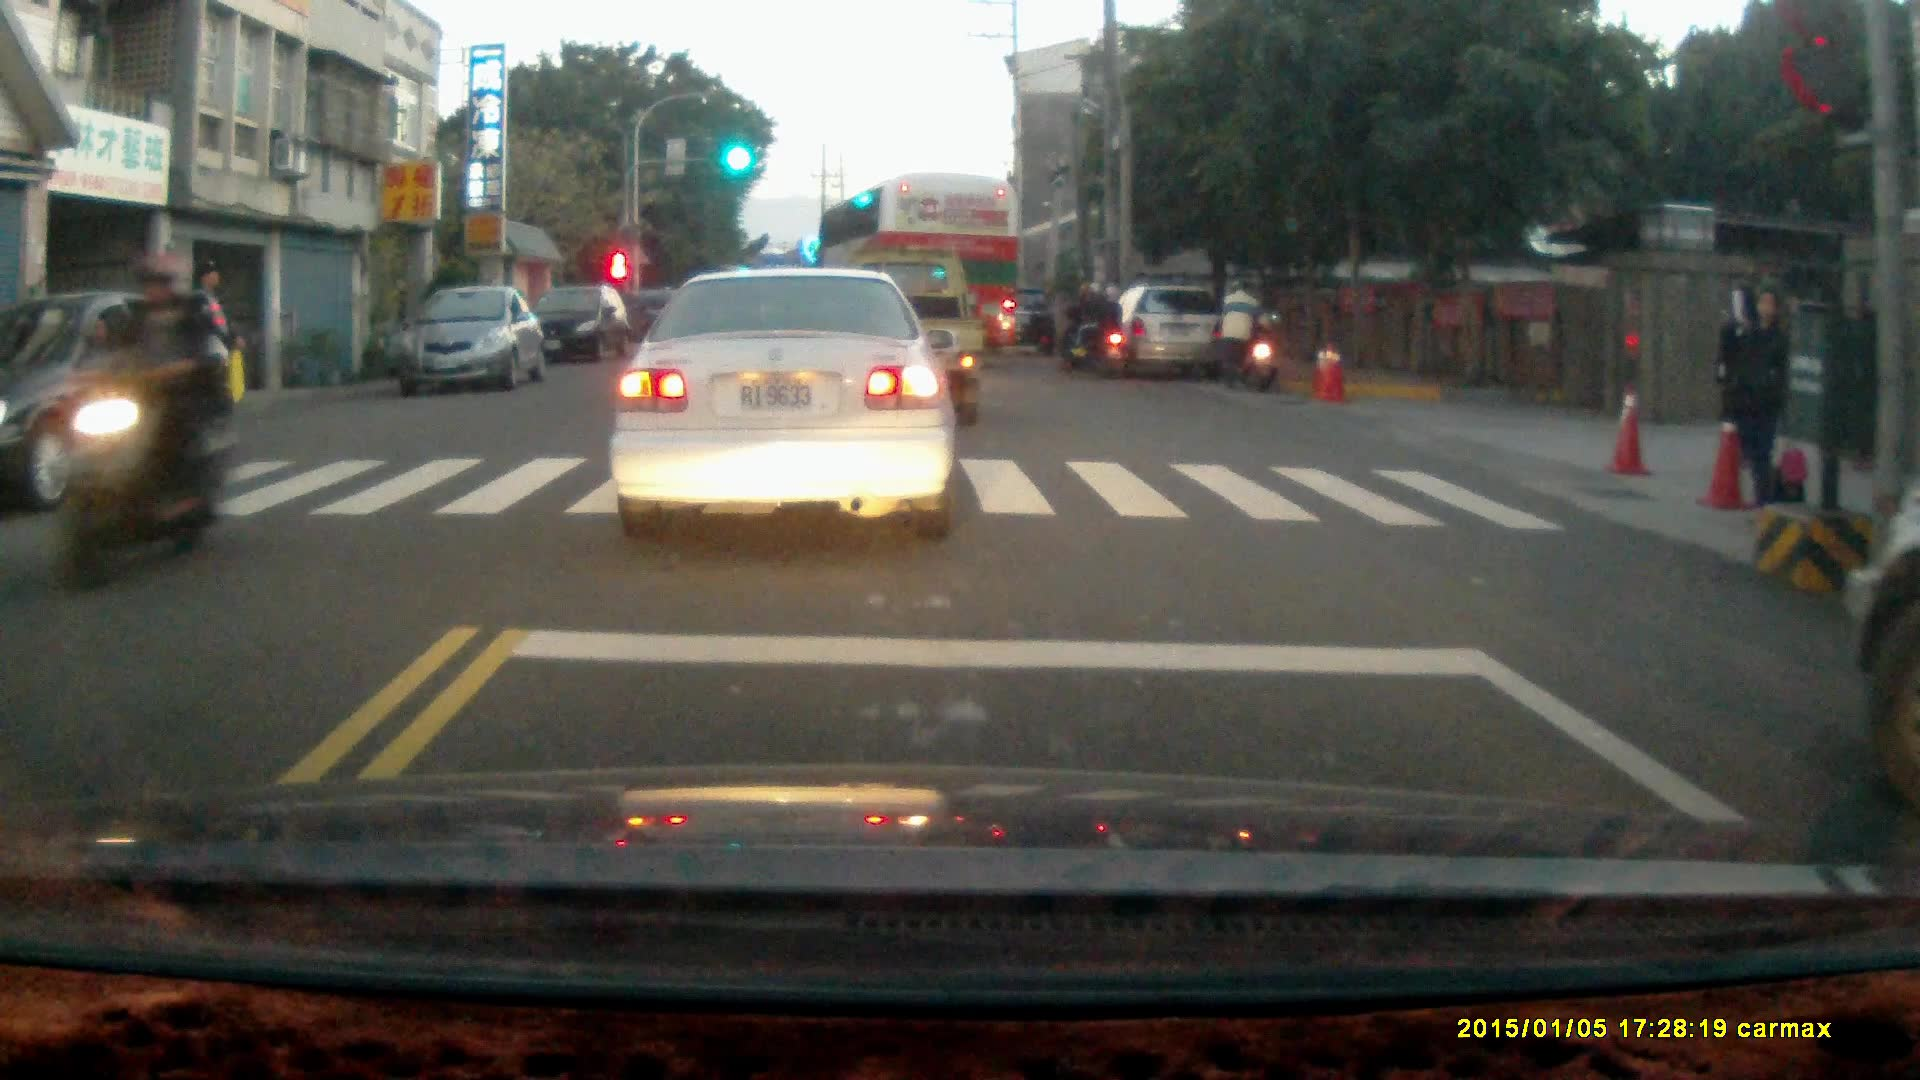pedestrian: (1728, 284, 1800, 518), (185, 260, 241, 448), (1714, 279, 1766, 461), (1220, 271, 1263, 385)
rider: (51, 249, 233, 597), (1056, 278, 1121, 382)
vehicle: (604, 263, 959, 545), (2, 293, 231, 512), (814, 171, 1025, 375), (388, 287, 544, 399), (1103, 284, 1228, 384), (527, 282, 632, 365)
